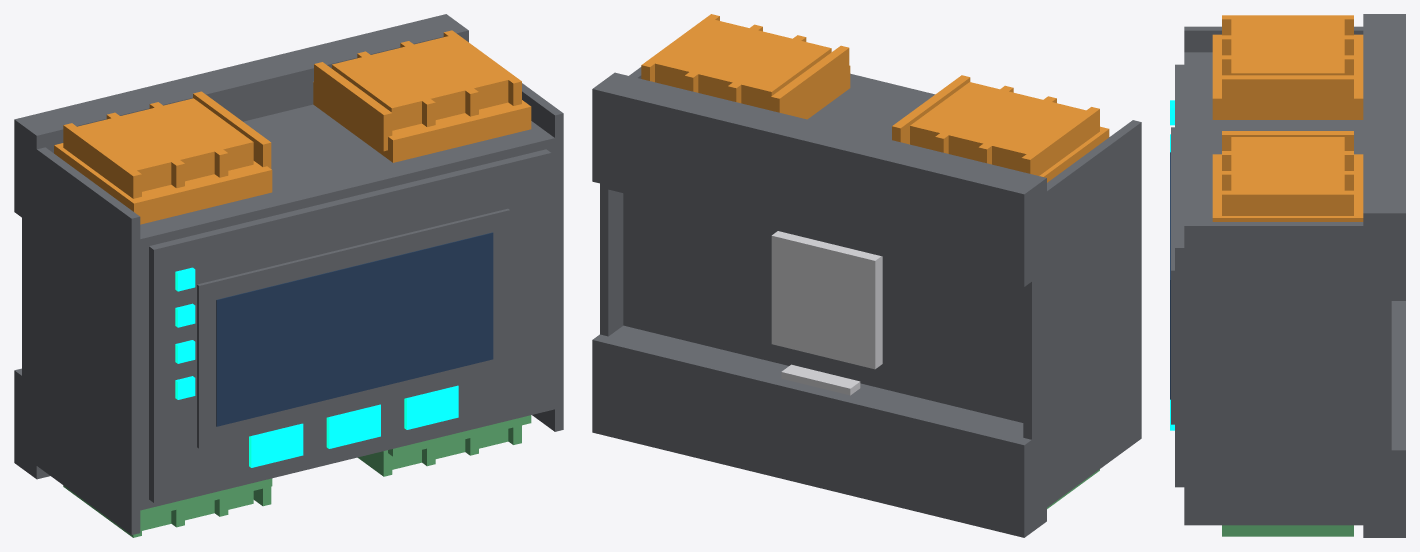
The model's file is SYN-IND-CTRL-01.glb.
3 renders of one model, left to right at view 1: azimuth 30°, elevation 25°; view 2: azimuth 150°, elevation 25°; view 3: azimuth 270°, elevation 25°, orthographic. The views are drawn at different scales.
Visible parts, largest first — view 1: Enclosure_Body, Terminal_Block_Top, Display_Panel, UI_Controls, Terminal_Block_Bottom; view 2: Enclosure_Body, Terminal_Block_Top, DIN_Hardware; view 3: Enclosure_Body, Terminal_Block_Top, Terminal_Block_Bottom.
Boxes of the visible parts, x1,y1,x2,y2 form: Enclosure_Body: [14, 14, 563, 535]; Terminal_Block_Top: [54, 30, 531, 224]; Display_Panel: [216, 232, 493, 426]; UI_Controls: [175, 267, 458, 467]; Terminal_Block_Bottom: [63, 415, 531, 537]; Enclosure_Body: [592, 67, 1141, 537]; Terminal_Block_Top: [641, 14, 1109, 182]; DIN_Hardware: [771, 231, 882, 395]; Enclosure_Body: [1171, 14, 1405, 537]; Terminal_Block_Top: [1212, 15, 1363, 221]; Terminal_Block_Bottom: [1222, 525, 1353, 536].
Bounding box in the file's own units: 0.1 × 0.08 × 0.05.
